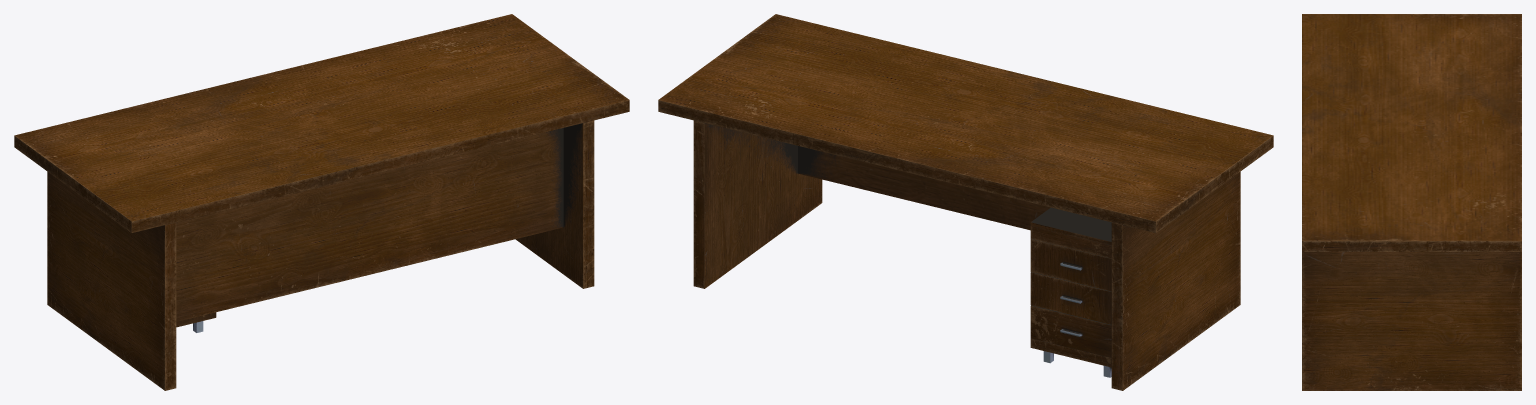
Rendered from office_desk___6mb.glb.
3 renders of one model, left to right at view 1: azimuth 30°, elevation 25°; view 2: azimuth 150°, elevation 25°; view 3: azimuth 270°, elevation 25°, orthographic. The views are drawn at different scales.
Visible parts, largest first — view 1: scene_2__0; view 2: scene_2__0; view 3: scene_2__0.
Boxes of the visible parts, bbox=[...] form: scene_2__0: bbox=[14, 14, 629, 390]; scene_2__0: bbox=[658, 14, 1273, 390]; scene_2__0: bbox=[1302, 14, 1521, 390].
Bounding box in the file's own units: 5.49 × 1.89 × 2.25.
1 material, 1 textured.
